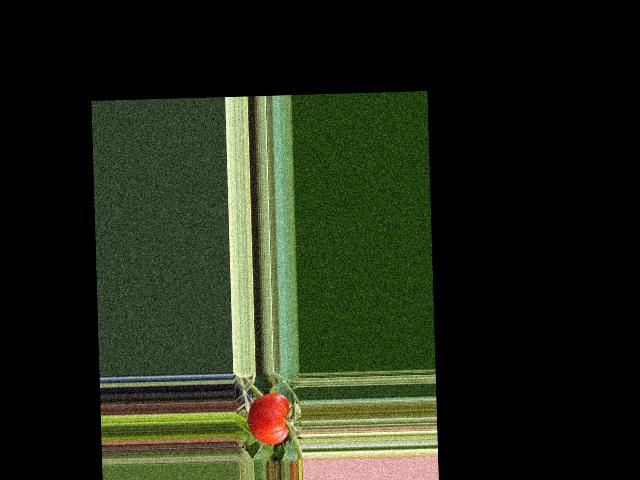tomato: (246, 392, 290, 444)
